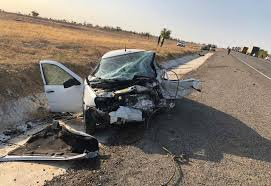car: (51, 43, 195, 132)
